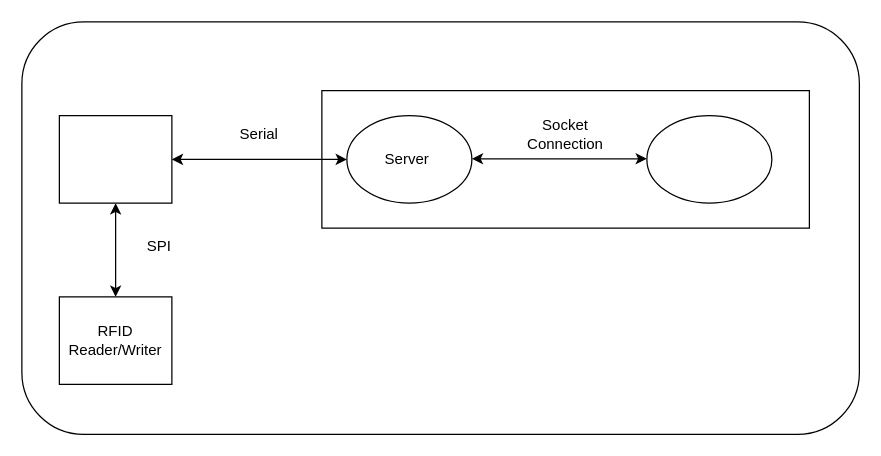
This 881x456 diagram has some shape labels left out. The centre of each missing label's shape, as x and y in pixels:
Arduino: (115,158)
Front End Gui: (709,158)
